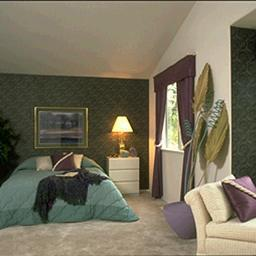Cama: (2, 156, 135, 220)
Ventana: (158, 76, 188, 151)
